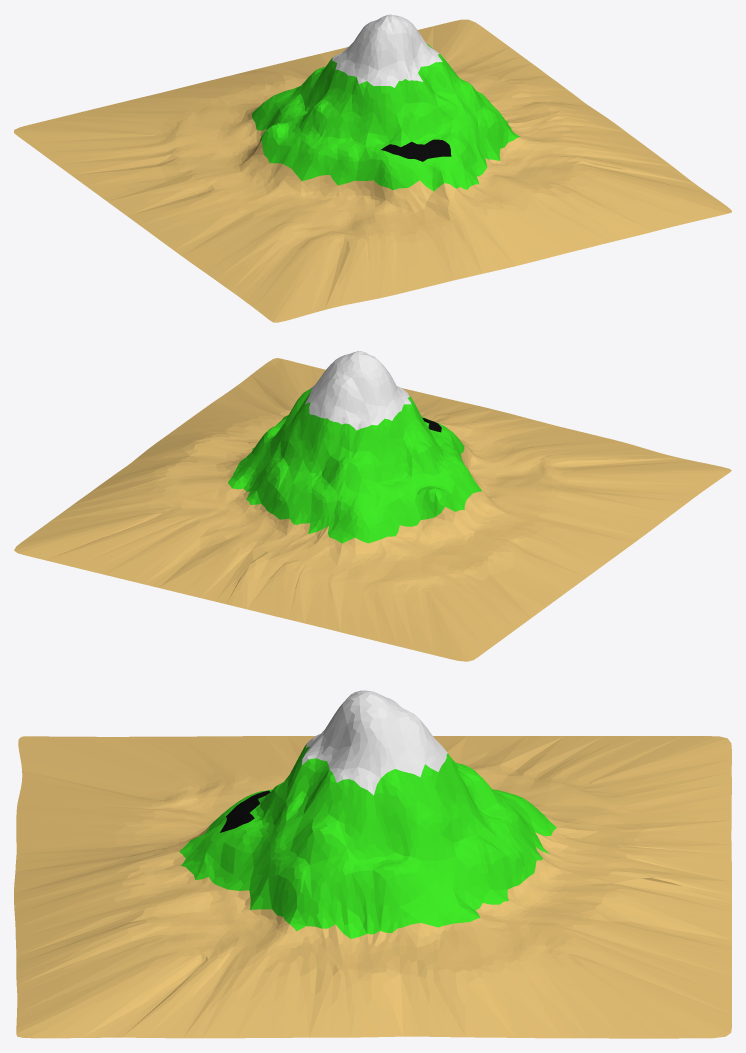
The model's file is terrainlowpoly3colour.fbx.
3 views of the same model, one above another, from view 1: azimuth 30°, elevation 25°; view 2: azimuth 150°, elevation 25°; view 3: azimuth 270°, elevation 25° (orthographic). The views are drawn at different scales.
Visible parts, largest first — view 1: Plane; view 2: Plane; view 3: Plane.
Part boxes in pixels (left/top/right/bottom): Plane: left=14, top=14, right=731, bottom=322; Plane: left=14, top=351, right=731, bottom=661; Plane: left=14, top=690, right=731, bottom=1038.
Size of the model in its own units: 2526 by 799 by 2535.
